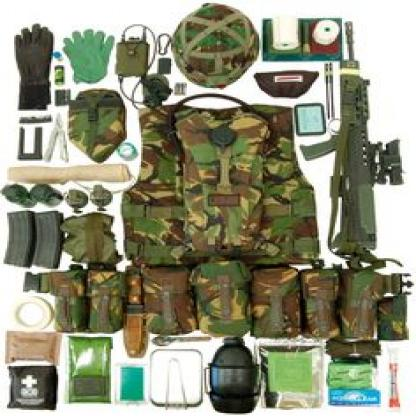Grenade: (29, 182, 65, 209), (2, 182, 37, 209), (89, 182, 113, 212), (65, 188, 88, 214)
Gun: (299, 20, 405, 252)
Knife: (124, 264, 148, 358)
